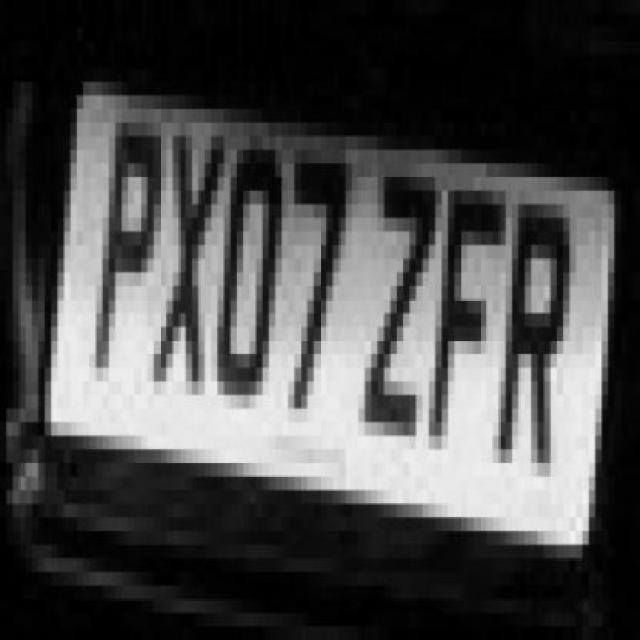licenseplate: (41, 72, 613, 563)
